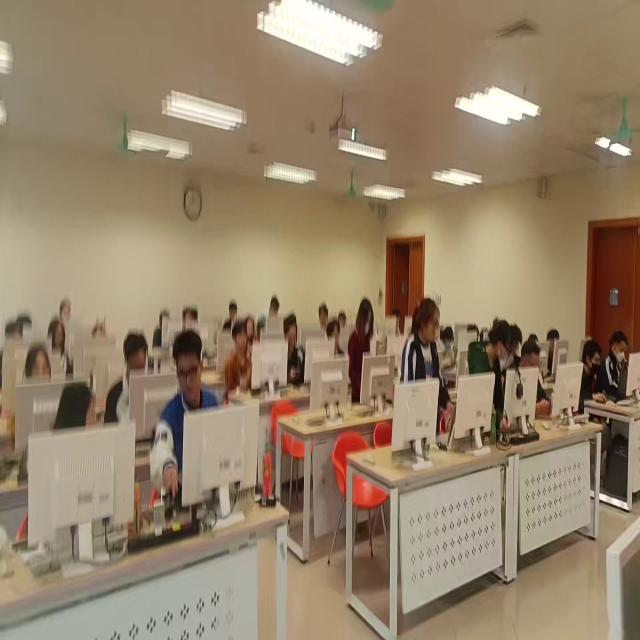raise_head: (225, 323, 253, 400), (24, 343, 56, 389), (328, 317, 344, 362), (182, 305, 199, 330), (248, 316, 259, 347), (61, 299, 75, 322), (93, 319, 107, 341), (318, 304, 329, 329)
stand: (401, 296, 450, 433), (467, 315, 513, 449), (348, 296, 377, 410)
using_computer: (153, 329, 220, 504), (105, 331, 150, 426), (577, 335, 607, 411), (1, 319, 24, 405), (46, 319, 77, 378), (606, 325, 630, 397), (437, 324, 457, 373), (152, 310, 170, 351), (547, 328, 561, 376), (224, 300, 240, 332), (269, 293, 282, 325)
using_phone: (519, 337, 555, 420), (285, 312, 308, 389)
